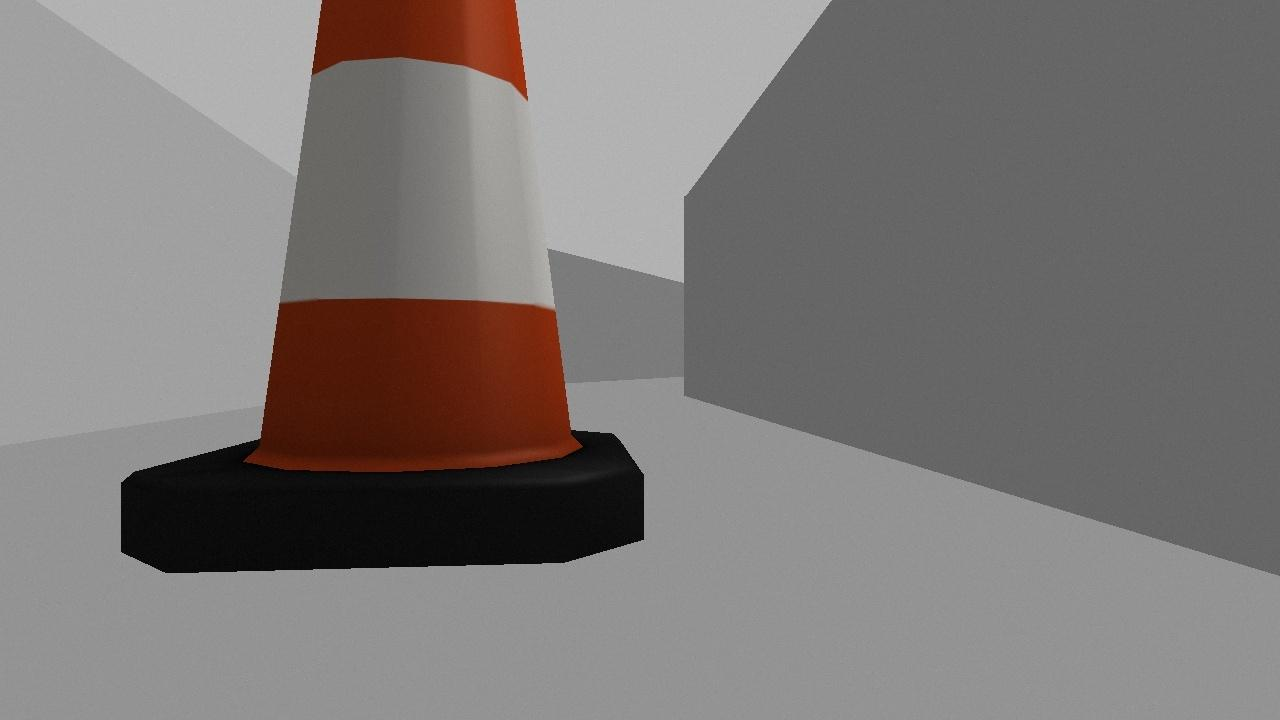cone_barrel: (120, 0, 644, 573)
